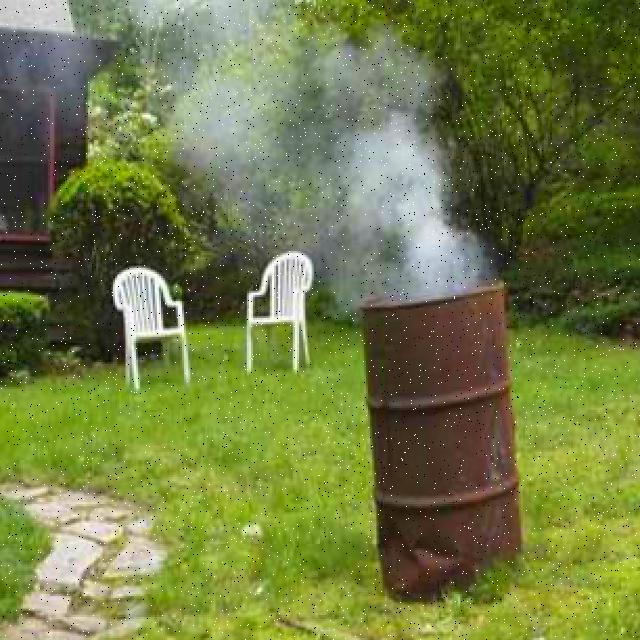smoke: (282, 46, 481, 309)
